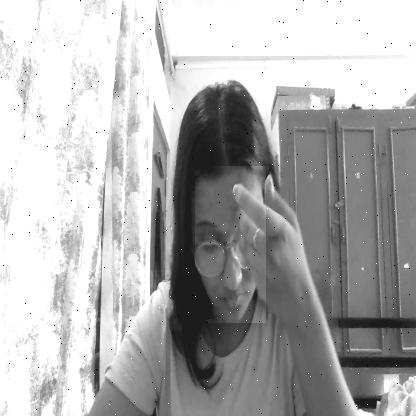Distracted: (195, 166, 266, 323)
